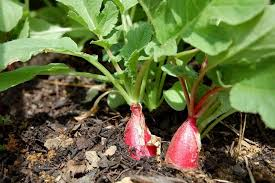raddish: (160, 78, 235, 178), (112, 76, 161, 163)
